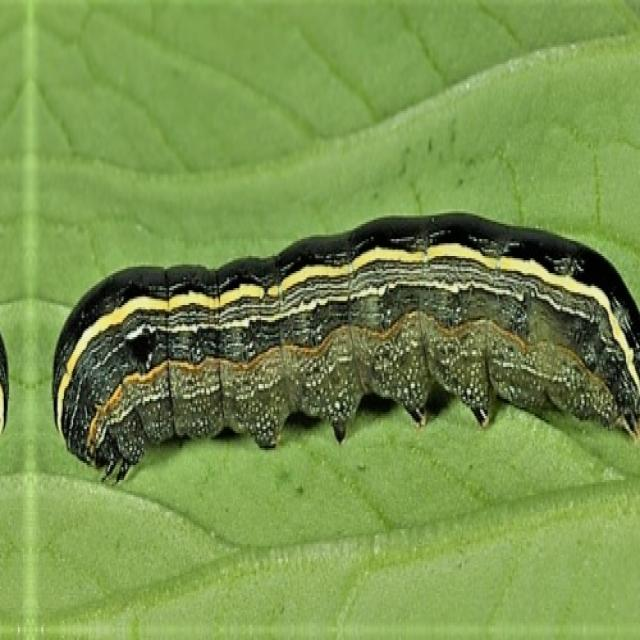armyworm: (51, 209, 639, 484)
